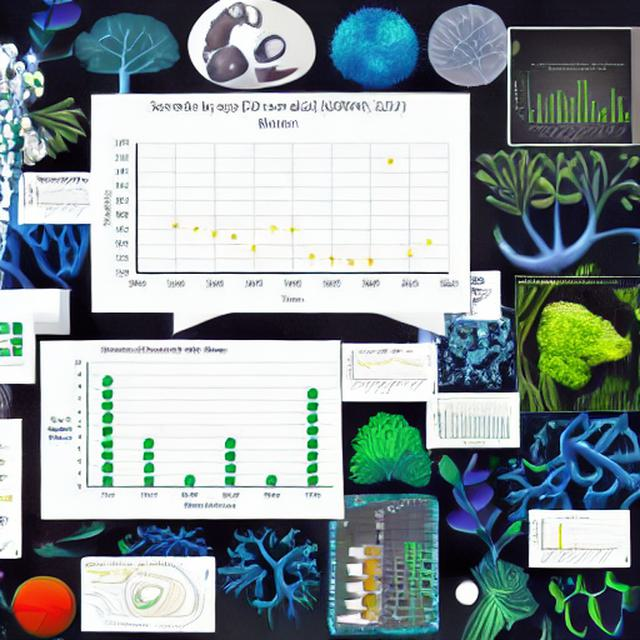Graph: (93, 96, 467, 311), (41, 342, 339, 515), (513, 60, 632, 144), (530, 515, 615, 565), (429, 395, 513, 445), (342, 349, 425, 397), (27, 181, 91, 219)
